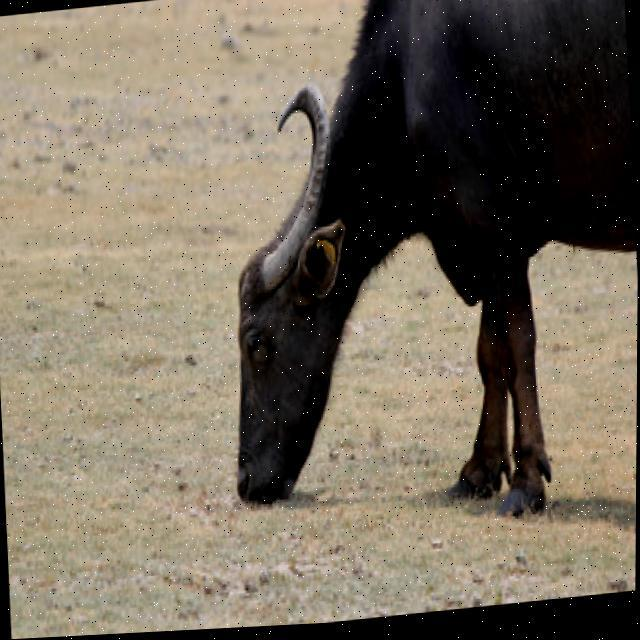Buffalo: (205, 0, 640, 551)
